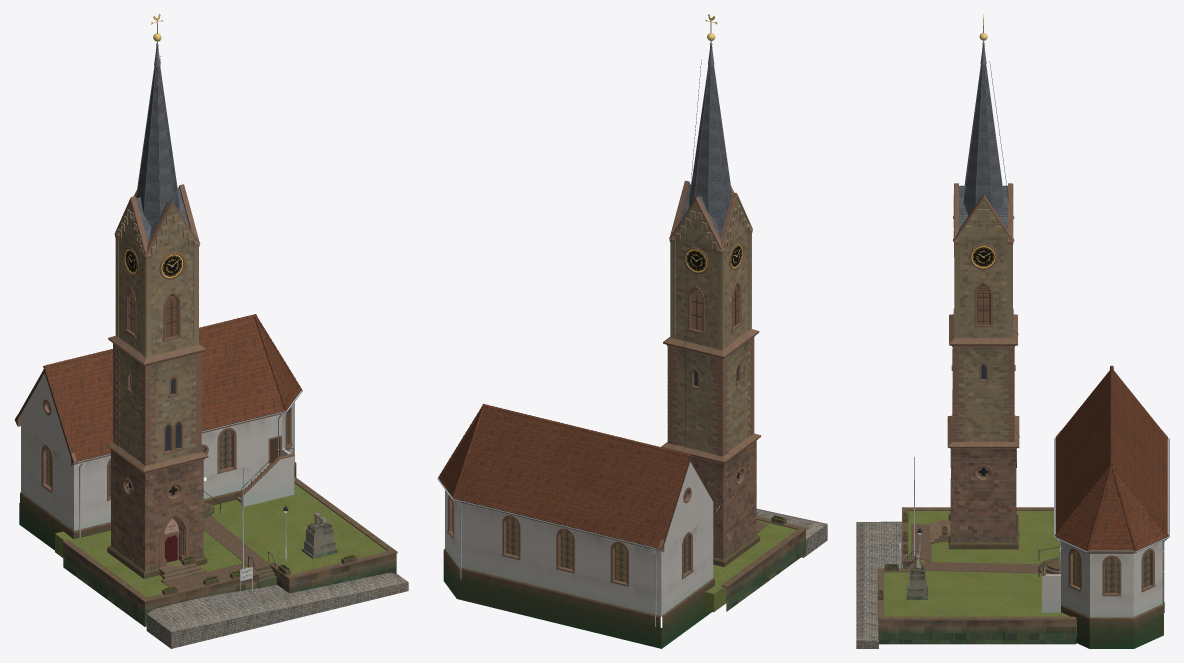
The model's file is evangelische_kirche.glb.
3 views of the same model, side by side, from view 1: azimuth 30°, elevation 25°; view 2: azimuth 150°, elevation 25°; view 3: azimuth 270°, elevation 25° (orthographic). The views are drawn at different scales.
Parts seen in each view (by area): view 1: Kirche_red, Kirche_roof, Kirche_yellow, Kirche_plaster, Kirche_grass, Kirche_cobble, Kirche_slate, Kirche_mortar, Kirche_paving, Kirche_wood_dark, Kirche_monument, Kirche_lead (+2 smaller); view 2: Kirche_red, Kirche_roof, Kirche_plaster, Kirche_yellow, Kirche_slate, Kirche_grass, Kirche_glass_lead, Kirche_wood_dark, Kirche_mortar, Kirche_cobble, Kirche_lead, Kirche_zinc (+2 smaller); view 3: Kirche_red, Kirche_roof, Kirche_grass, Kirche_yellow, Kirche_plaster, Kirche_cobble, Kirche_slate, Kirche_mortar, Kirche_paving, Kirche_glass_lead, Kirche_lead, Kirche_zinc (+3 smaller).
Boxes of the visible parts, x1,y1,x2,y2 form: Kirche_red: (15, 184, 397, 626); Kirche_roof: (18, 314, 301, 460); Kirche_yellow: (115, 202, 198, 462); Kirche_plaster: (21, 373, 294, 530); Kirche_grass: (55, 483, 386, 597); Kirche_cobble: (146, 572, 408, 648); Kirche_slate: (136, 66, 189, 242); Kirche_mortar: (63, 206, 396, 626); Kirche_paving: (164, 516, 270, 589); Kirche_wood_dark: (15, 291, 300, 462); Kirche_monument: (301, 512, 337, 558); Kirche_lead: (136, 42, 179, 204); Kirche_red: (443, 180, 807, 648); Kirche_roof: (438, 403, 712, 547); Kirche_plaster: (445, 462, 713, 615); Kirche_yellow: (670, 198, 751, 454); Kirche_slate: (679, 65, 731, 238); Kirche_grass: (705, 520, 796, 612); Kirche_glass_lead: (452, 491, 688, 582); Kirche_wood_dark: (439, 286, 739, 549); Kirche_mortar: (673, 203, 803, 604); Kirche_cobble: (756, 508, 827, 557); Kirche_lead: (689, 42, 731, 200); Kirche_zinc: (437, 478, 719, 626); Kirche_red: (877, 183, 1167, 648); Kirche_roof: (1055, 365, 1168, 550); Kirche_grass: (884, 511, 1076, 636); Kirche_yellow: (953, 195, 1013, 441); Kirche_plaster: (1042, 538, 1162, 617); Kirche_cobble: (856, 521, 902, 648); Kirche_slate: (959, 64, 1007, 229); Kirche_mortar: (881, 204, 1073, 643); Kirche_paving: (911, 524, 1039, 573); Kirche_glass_lead: (1073, 551, 1150, 592); Kirche_lead: (959, 41, 1007, 196); Kirche_zinc: (1054, 438, 1169, 612).
Bounding box in the file's own units: 23.05 × 49.44 × 25.63.
24 materials, 14 textured.
